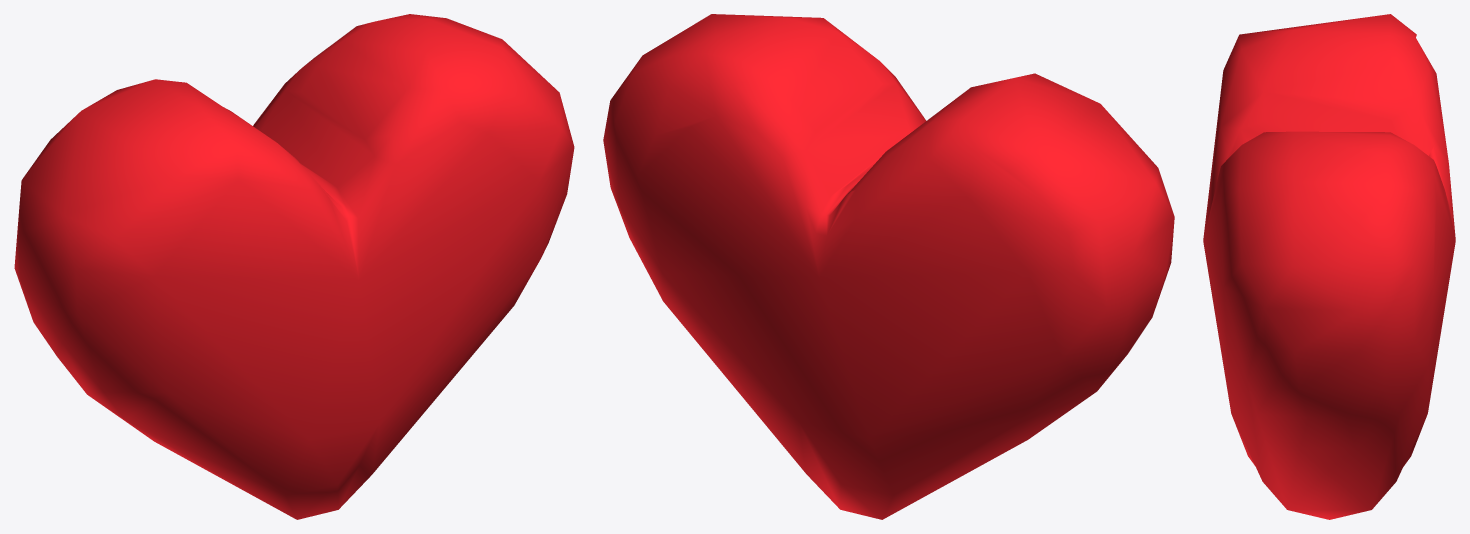
File: corazon.fbx
The picture shows the model from 3 angles, left to right: view 1: azimuth 30°, elevation 25°; view 2: azimuth 150°, elevation 25°; view 3: azimuth 270°, elevation 25°; orthographic projection. The views are drawn at different scales.
Visible parts, largest first — view 1: Cube; view 2: Cube; view 3: Cube.
Boxes of the visible parts, left/top/right/bottom form: Cube: left=14, top=14, right=574, bottom=519; Cube: left=603, top=14, right=1174, bottom=519; Cube: left=1203, top=14, right=1455, bottom=519.
Bounding box in the file's own units: 167 × 141 × 73.12.
